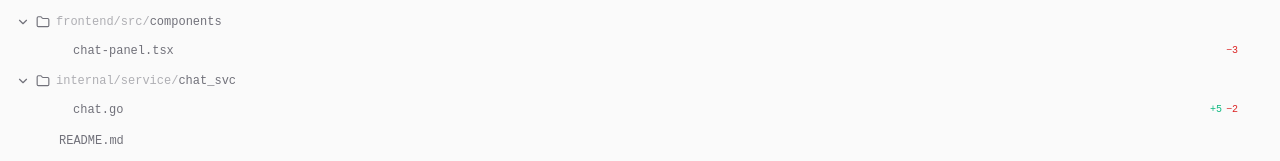
Test: FilesView 链压缩 › expands/collapses the folded row as one unit; its children indent exactly one level deeper
Click the button with aria-label "Collapse internal/service/chat_svc" at (117, 81), box [16, 67, 1268, 95]
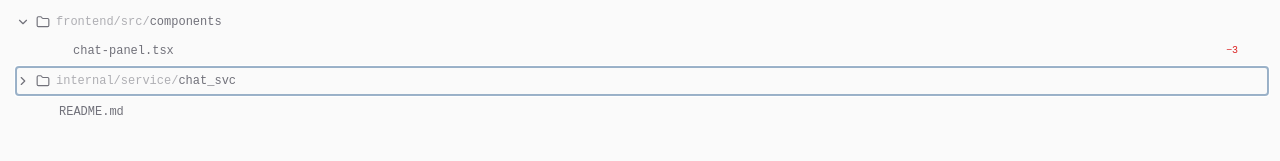
Now the list item with test id "changes-row" is collapsed, box [8, 67, 1272, 95]
Now the button "chat.go" is gone
Click the button named "Collapse internal/service/chat_svc" at (117, 81), box [16, 67, 1268, 95]
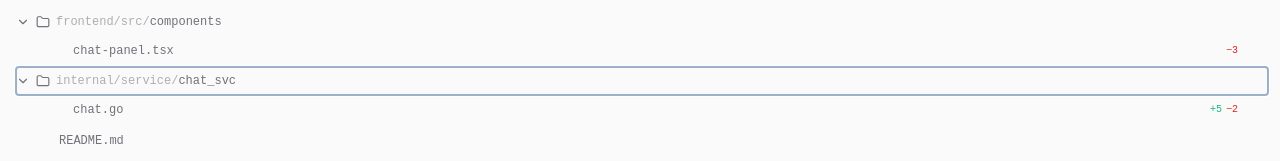
Now the list item with test id "changes-row" is expanded, box [8, 67, 1272, 95]
Now the button "chat.go +5 −2" is shown, box [30, 95, 1238, 124]
